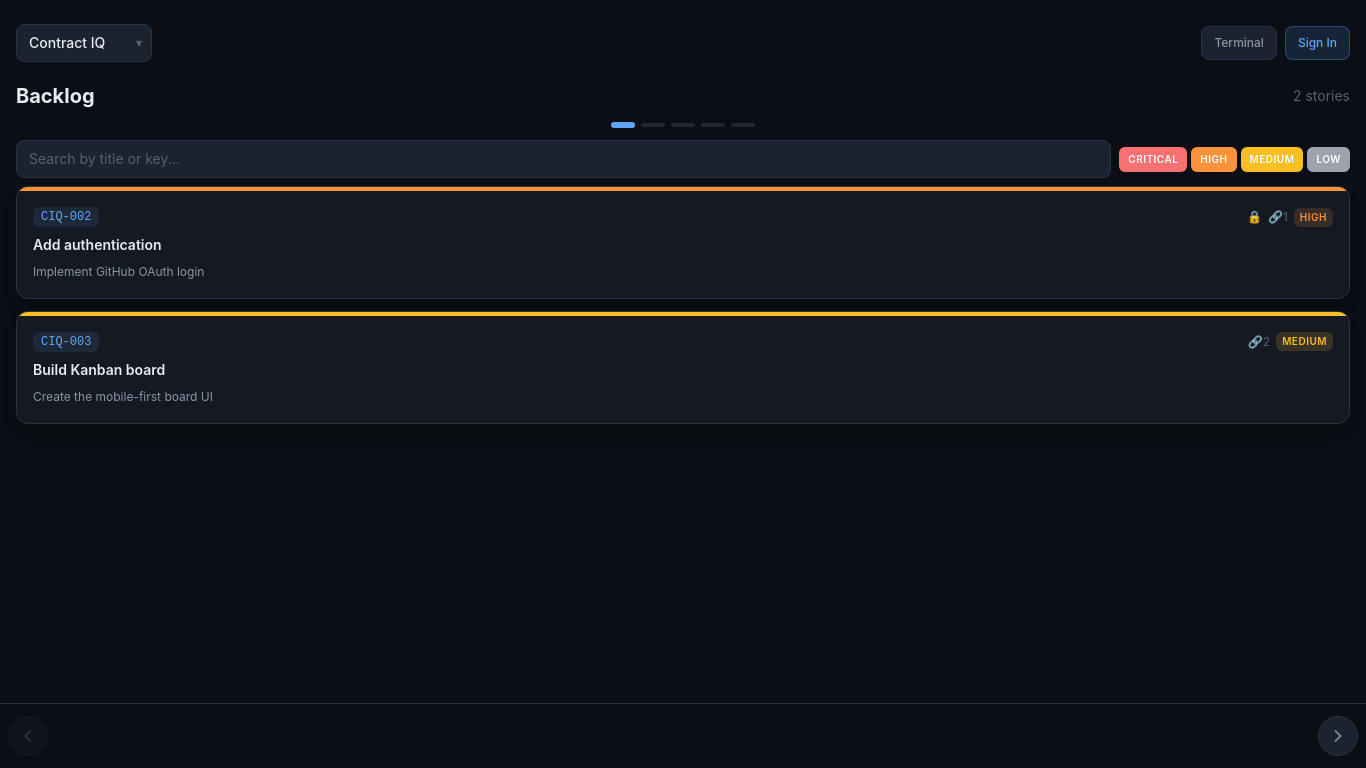
BLF-014: Filter stories by priority level › filters stories to only those matching the selected priority
The image size is (1366, 768).
Check: the heading "Backlog" is shown, box x1=16 y1=82 x2=94 y2=110
Check: the text "CIQ-002" is shown, box x1=33 y1=207 x2=99 y2=227
# Filter to only High priority
Click the button with aria-label "Filter High priority".
click(1214, 159)  # box x1=1191 y1=146 x2=1237 y2=172
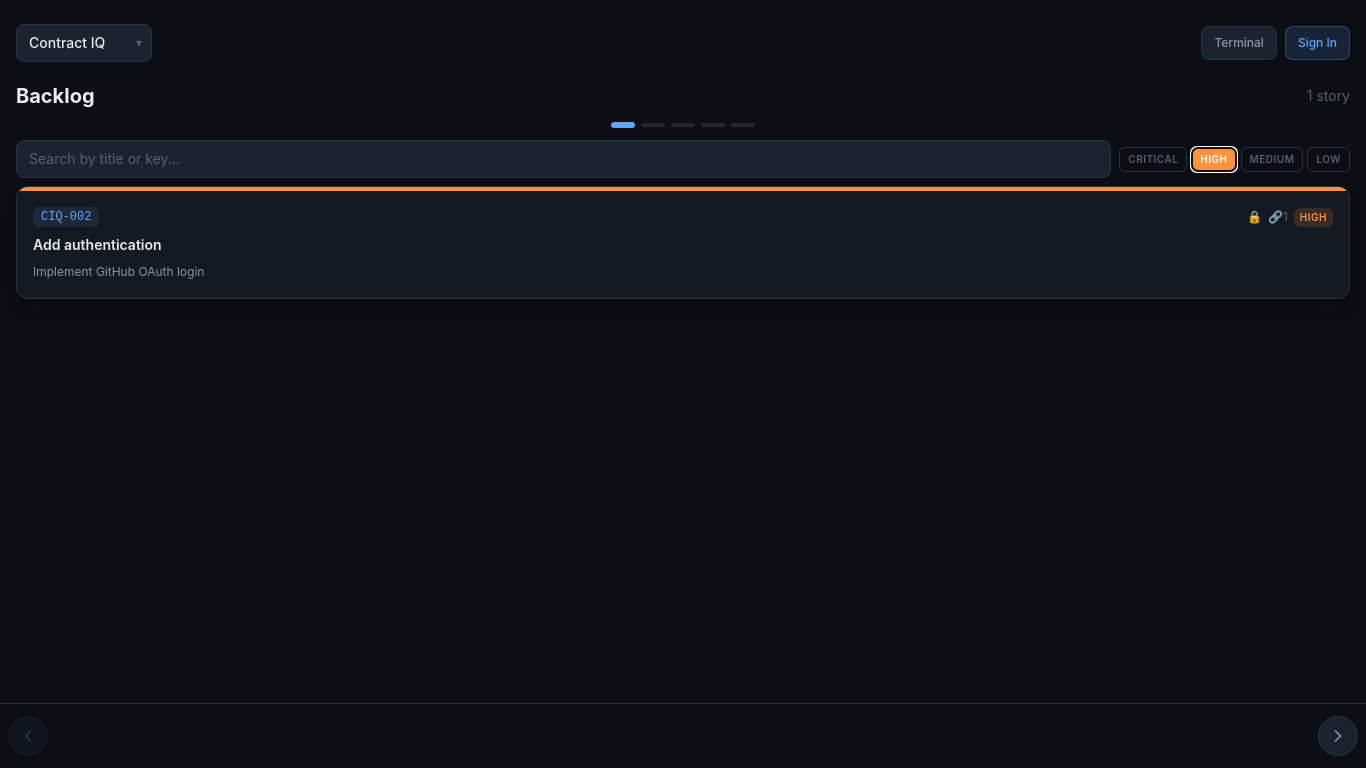
Check: the text "CIQ-002" is shown, box x1=33 y1=207 x2=99 y2=227
Check: the button "CIQ-003" is gone
